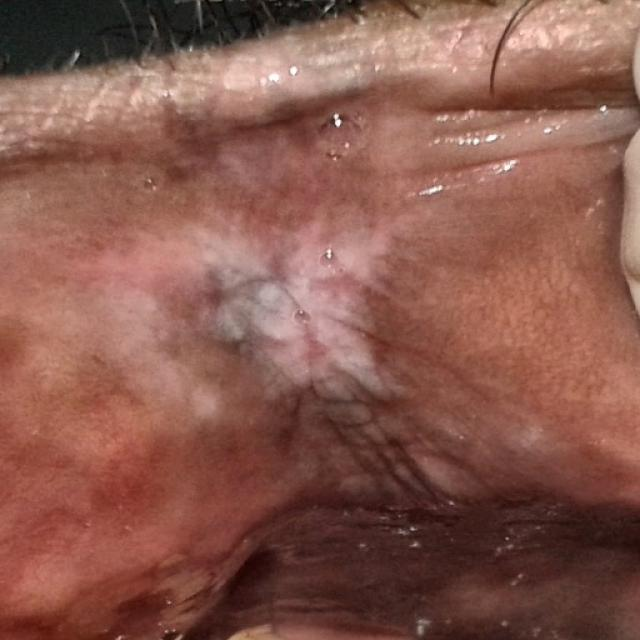cancer-detection: (182, 189, 501, 515)
processing_area: (3, 7, 636, 633)
